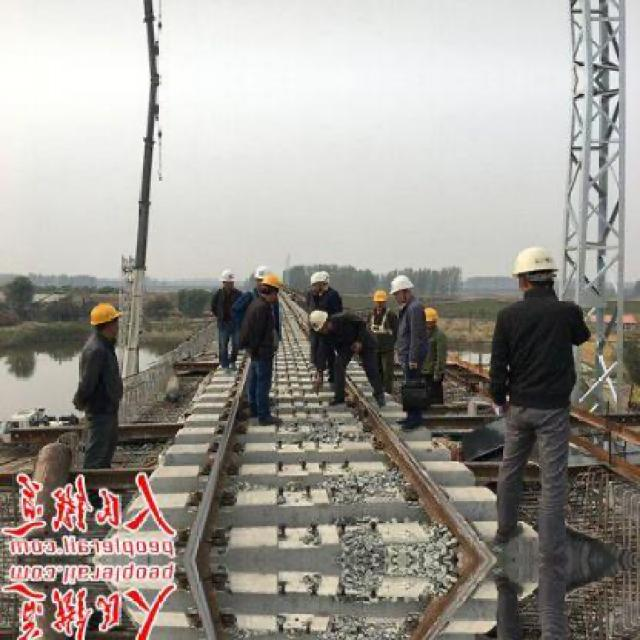helmet: (509, 241, 560, 297), (88, 299, 123, 343), (389, 271, 418, 306), (304, 309, 336, 334), (255, 274, 283, 298), (417, 303, 440, 331), (304, 268, 330, 292), (254, 263, 272, 285), (220, 268, 238, 290), (374, 288, 392, 309)
